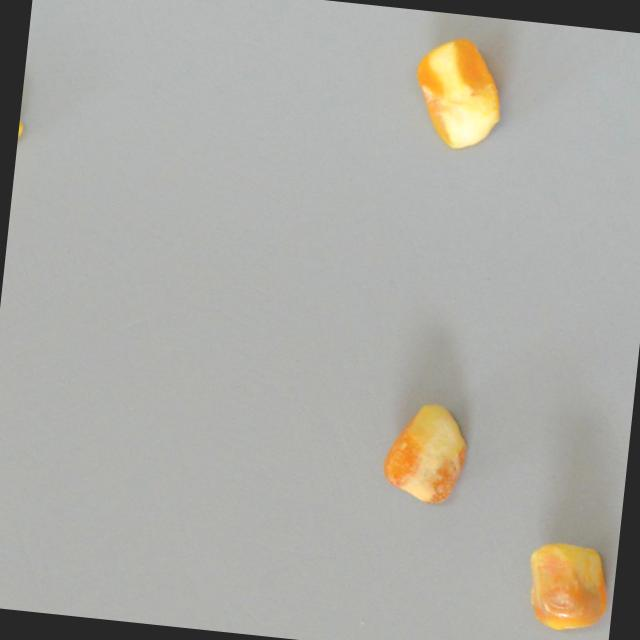dañado: (377, 393, 475, 507), (520, 536, 618, 634)
pelicula: (407, 33, 507, 151)
